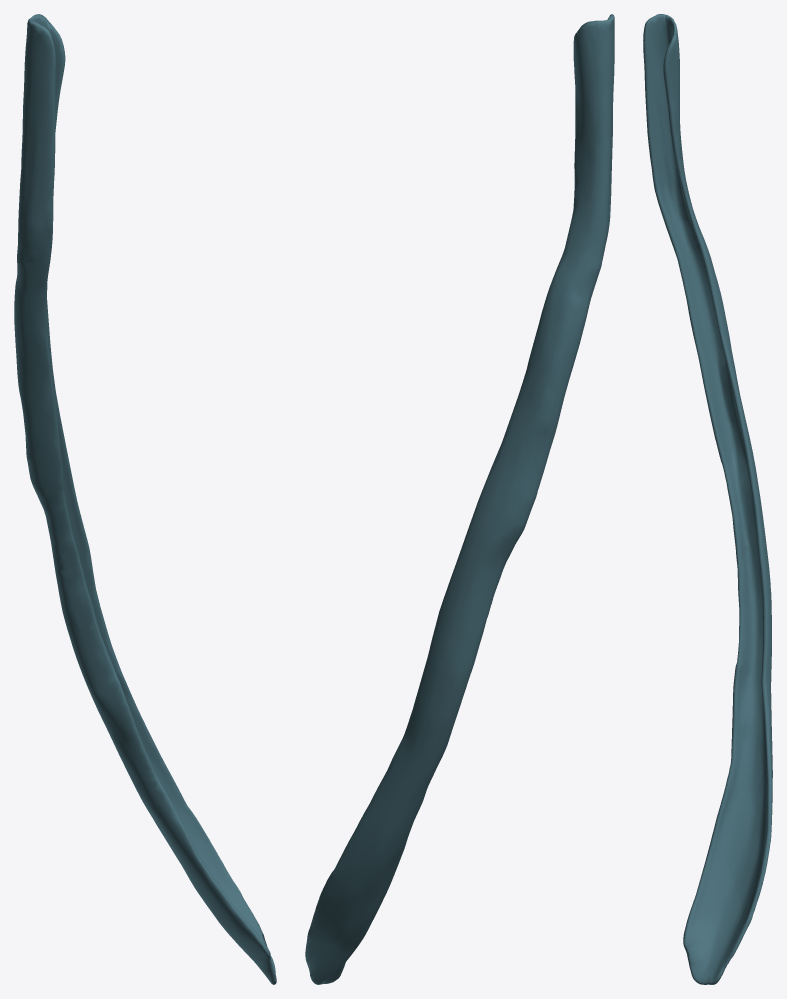
The model's file is Rhomboid_major_muscle-Scapular_insertion.l_Generated_Mesh_From_.glb.
The picture shows the model from 3 angles, left to right: view 1: azimuth 30°, elevation 25°; view 2: azimuth 150°, elevation 25°; view 3: azimuth 270°, elevation 25°; orthographic projection. The views are drawn at different scales.
Parts seen in each view (by area): view 1: Rhomboid_major_muscle-Scapular_insertion.l_Generated_Mesh_Fr; view 2: Rhomboid_major_muscle-Scapular_insertion.l_Generated_Mesh_Fr; view 3: Rhomboid_major_muscle-Scapular_insertion.l_Generated_Mesh_Fr.
Part boxes in pixels (left/top/right/bottom): Rhomboid_major_muscle-Scapular_insertion.l_Generated_Mesh_Fr: left=14, top=14, right=276, bottom=984; Rhomboid_major_muscle-Scapular_insertion.l_Generated_Mesh_Fr: left=305, top=14, right=614, bottom=984; Rhomboid_major_muscle-Scapular_insertion.l_Generated_Mesh_Fr: left=643, top=14, right=772, bottom=984.
Bounding box in the file's own units: 0.028 × 0.0999 × 0.0136.
